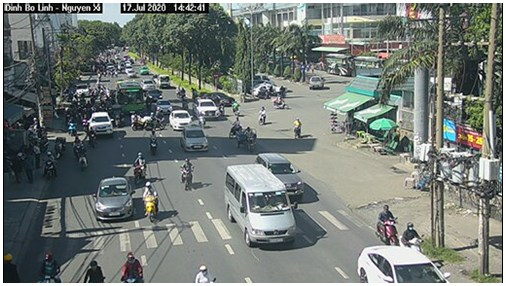di_bo: (17, 151, 36, 185), (291, 117, 306, 144)
xe_ba_gac: (234, 126, 260, 153), (107, 105, 127, 131)
xe_ban_tai: (191, 98, 221, 122)
xe_buyt: (116, 81, 146, 114)
xe_hoi: (355, 245, 453, 283), (256, 152, 305, 200), (179, 125, 210, 154), (89, 111, 115, 138), (170, 108, 191, 132)
xe_khach: (223, 163, 296, 248)
xe_may: (375, 201, 397, 245), (120, 247, 146, 284), (76, 256, 106, 284), (401, 219, 423, 256), (142, 181, 159, 223), (40, 251, 61, 283), (180, 156, 194, 189), (145, 110, 165, 133), (193, 264, 217, 283), (132, 152, 146, 184), (269, 93, 290, 112), (44, 151, 57, 178), (130, 111, 146, 131), (227, 115, 240, 138), (76, 143, 87, 170), (147, 128, 157, 156), (68, 115, 80, 138), (89, 125, 97, 150), (258, 107, 267, 128), (179, 96, 191, 111), (231, 100, 240, 116), (85, 97, 92, 117), (75, 99, 82, 114)
